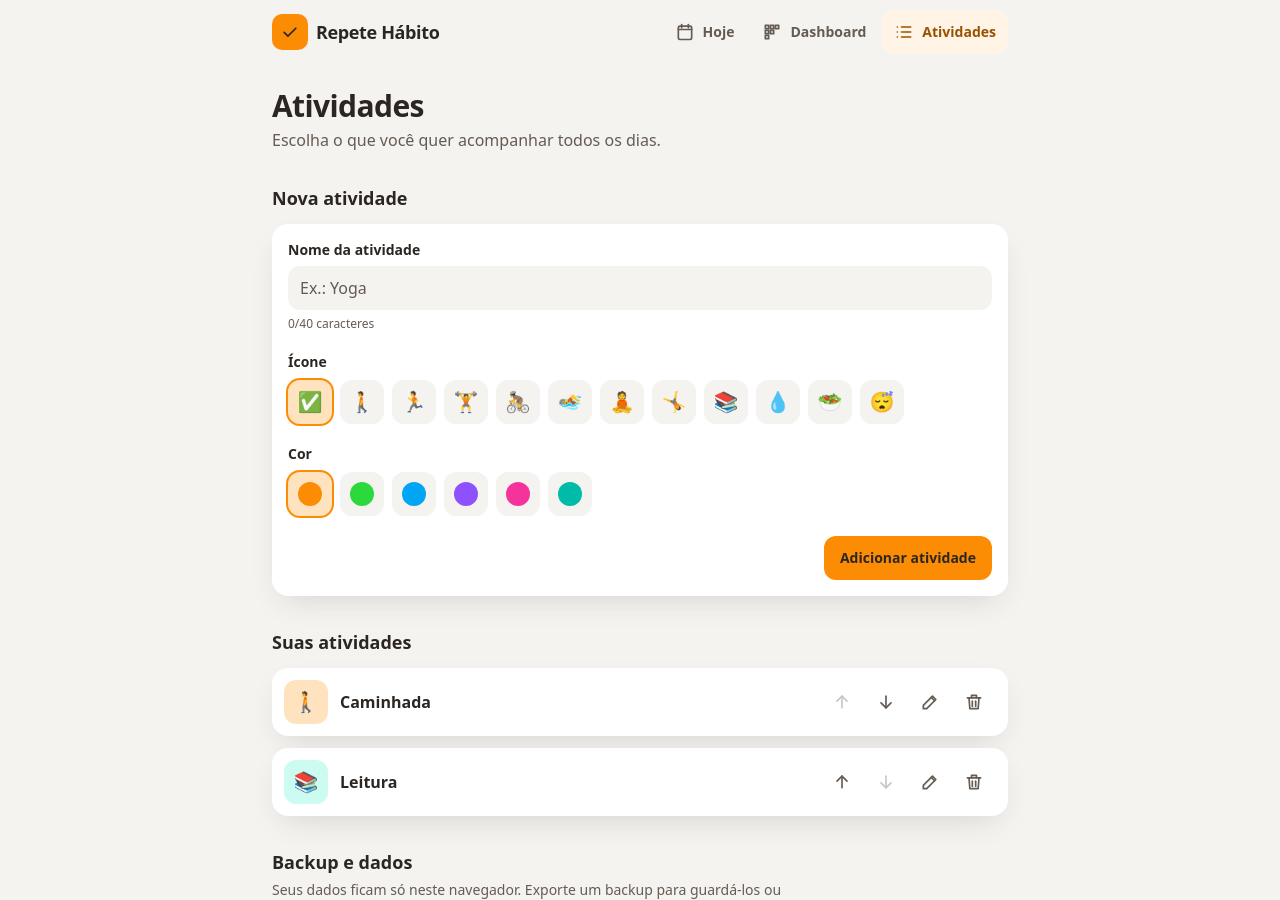
Test: ActivitiesView — gerenciamento › TI-05: confirmar a remoção apaga a atividade e seus registros
Click the button named "Remover Caminhada" at (974, 702), box [952,680,996,724]
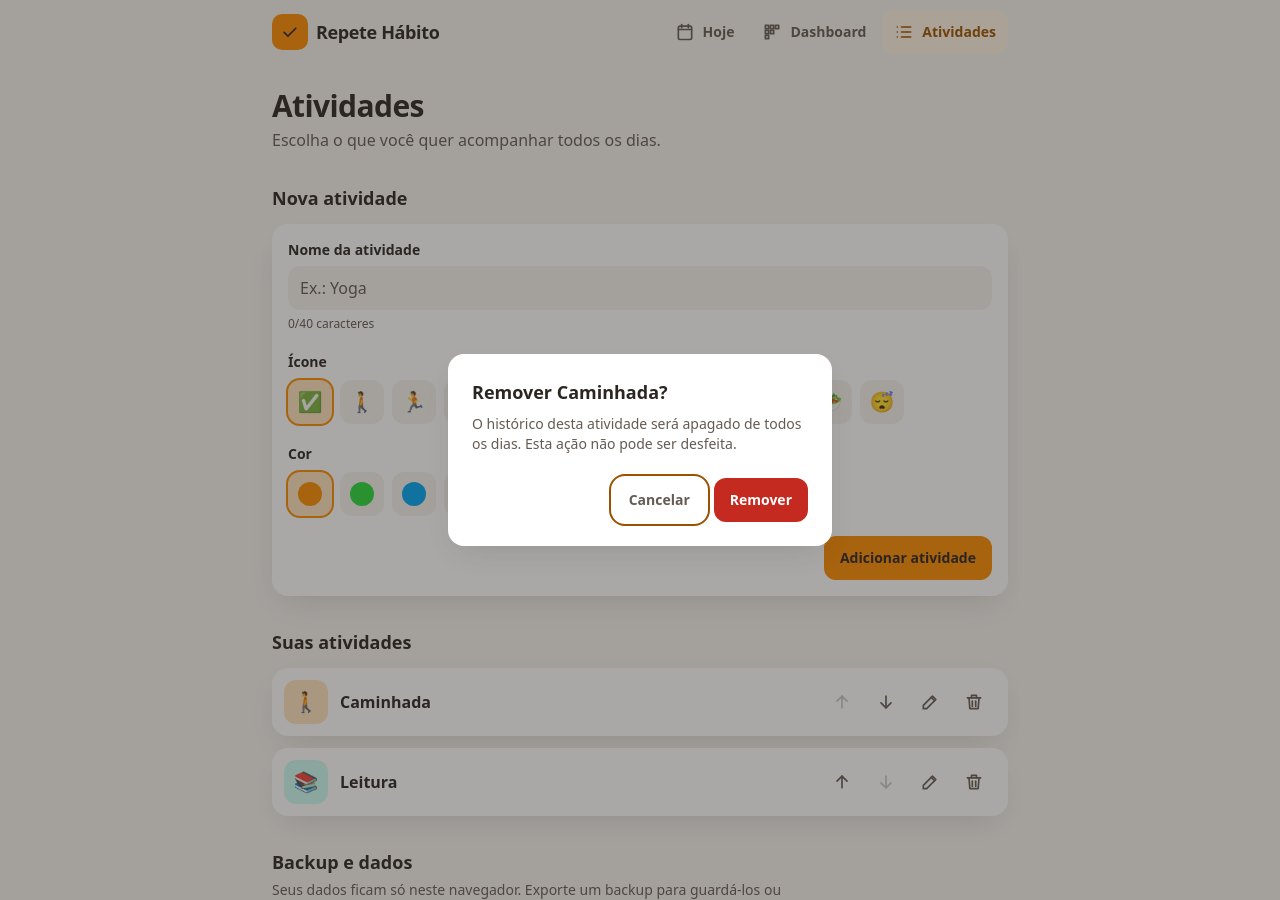
Click the button "Remover" at (761, 500), box [714,478,808,522]
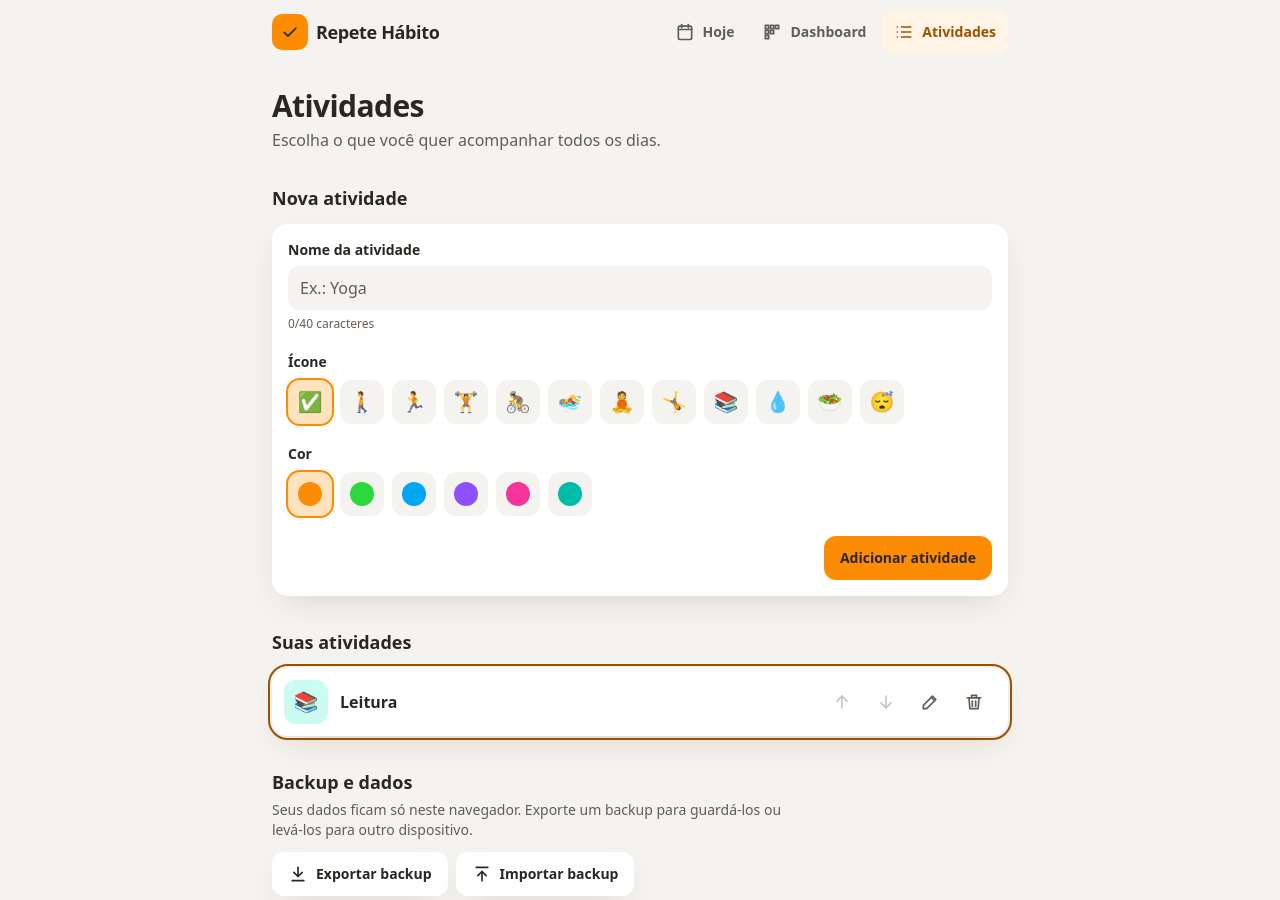
Result: the text "Caminhada" is gone
